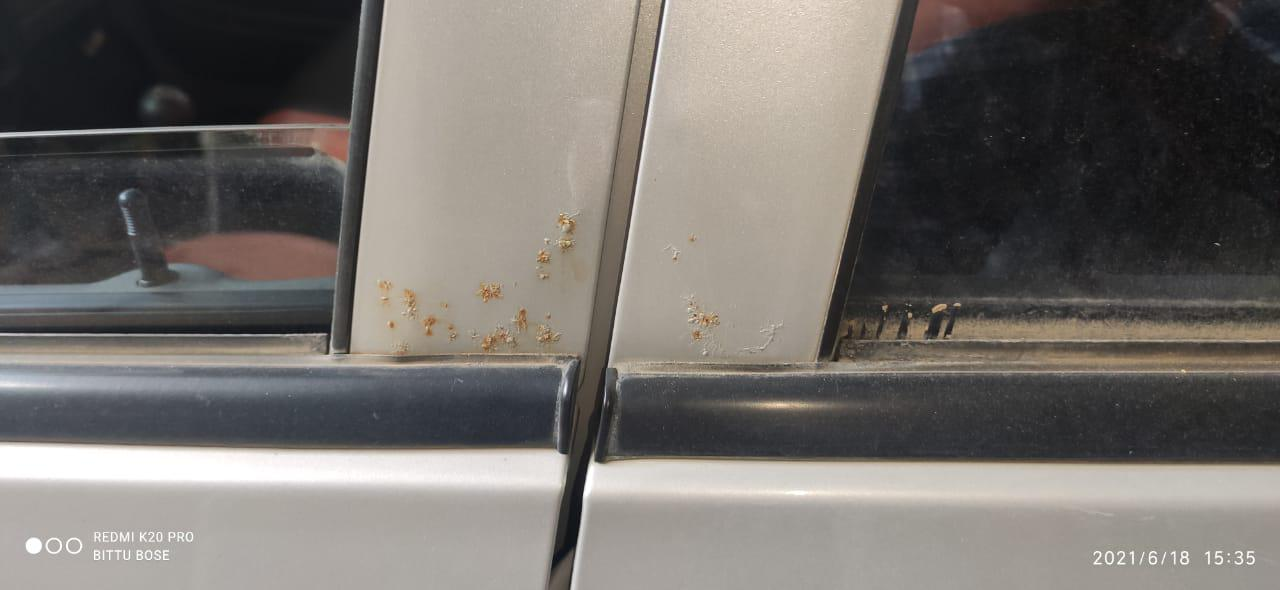pillar-dent: (609, 3, 914, 372), (352, 0, 603, 369)
